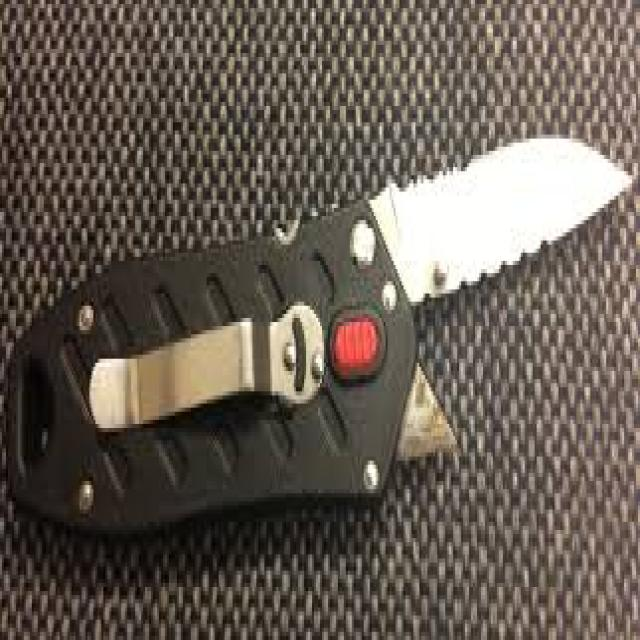knives: (4, 122, 634, 542)
